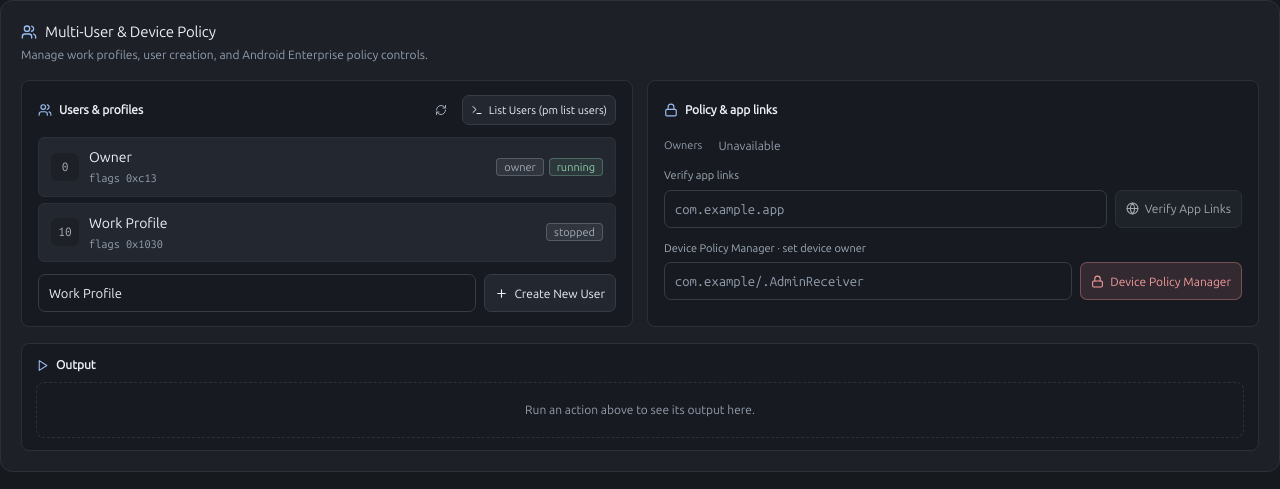
UserPolicyPanel › keeps destructive actions behind the operation dialog
The image size is (1280, 489).
Click the button "Create New User" at (550,293), box [484,274,616,312]
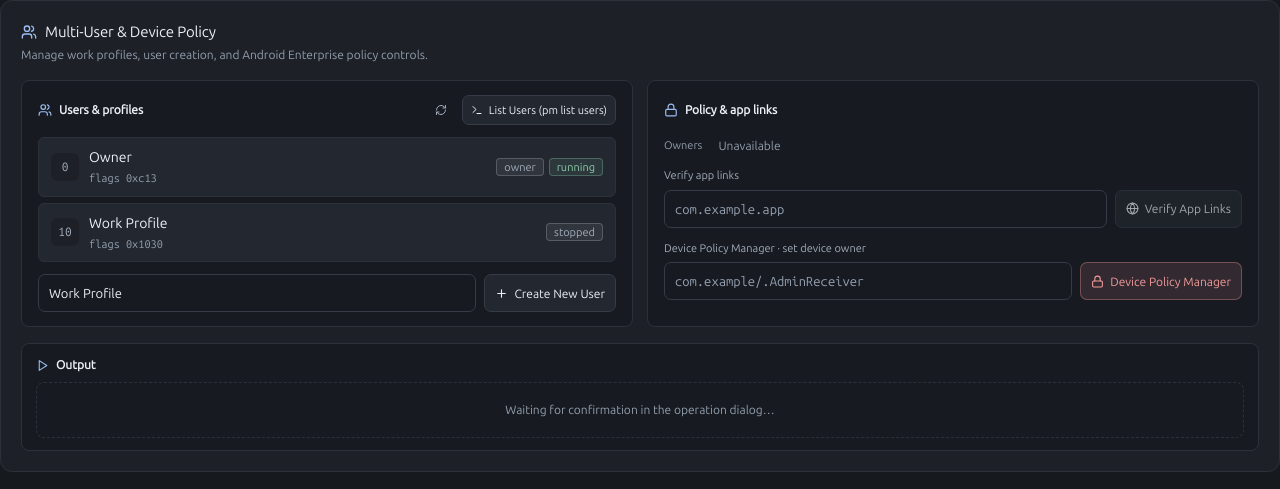
Check: the text "Waiting for confirmation in the operation dialog…" is shown, box [36,382,1244,438]
